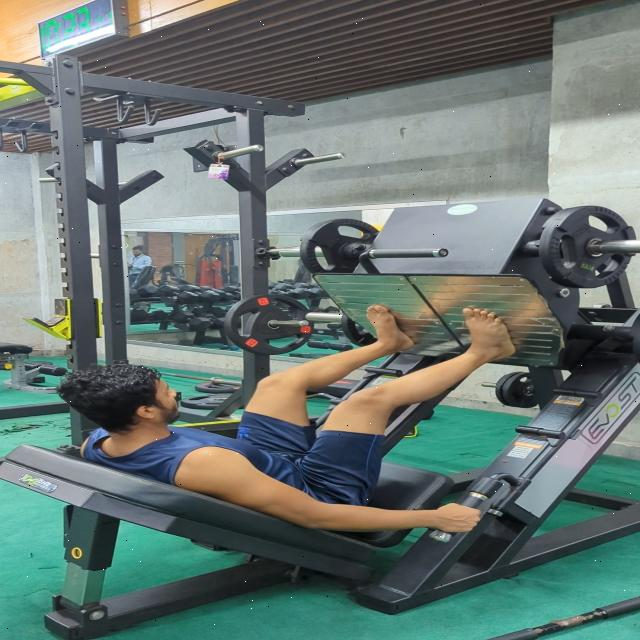Normal_LegPress: (48, 290, 548, 547)
